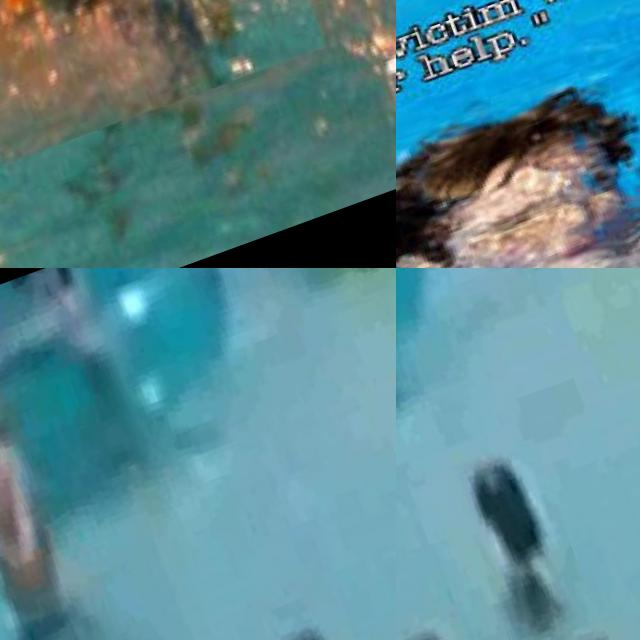drowning: (396, 33, 640, 268), (0, 0, 328, 165), (411, 437, 600, 640), (233, 579, 374, 640)
swimming: (0, 346, 104, 640), (7, 268, 122, 366)
